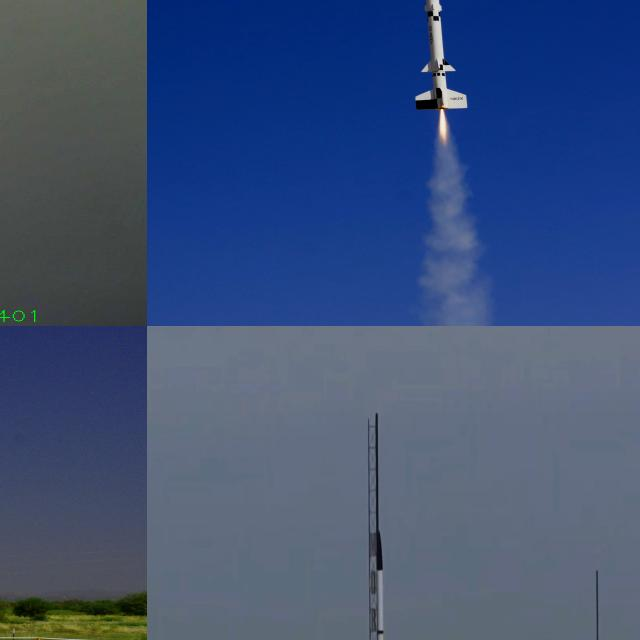Rocket: (413, 0, 467, 110), (369, 529, 393, 640)
